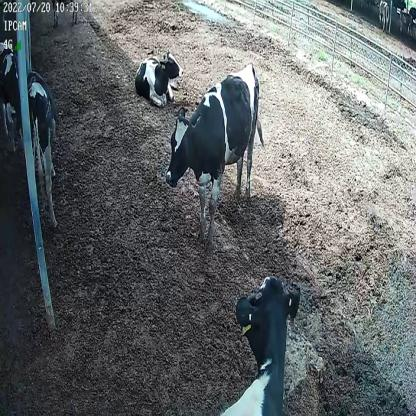cow: (166, 62, 266, 239), (217, 275, 301, 416), (135, 50, 185, 110)
